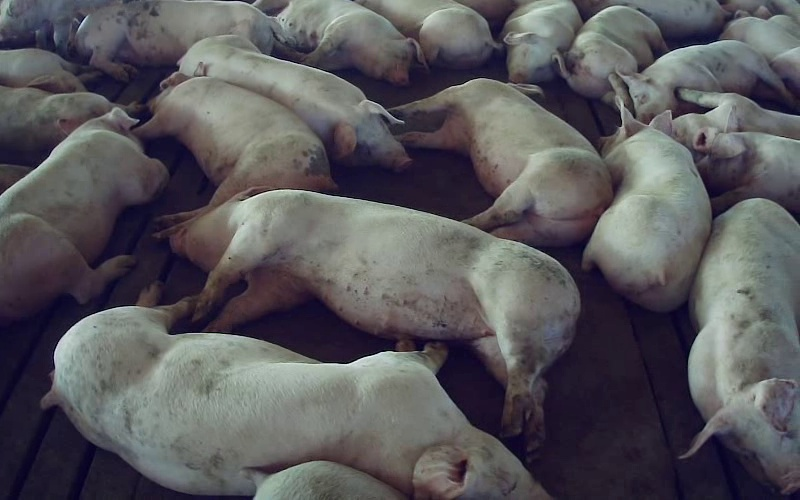pig: (41, 284, 547, 499), (392, 79, 612, 245), (0, 108, 168, 323), (684, 198, 799, 493), (179, 35, 411, 170), (135, 72, 336, 205), (582, 105, 710, 311), (74, 0, 281, 81), (619, 40, 791, 122), (277, 0, 426, 85), (557, 6, 667, 111), (357, 0, 499, 68), (697, 132, 799, 213)
